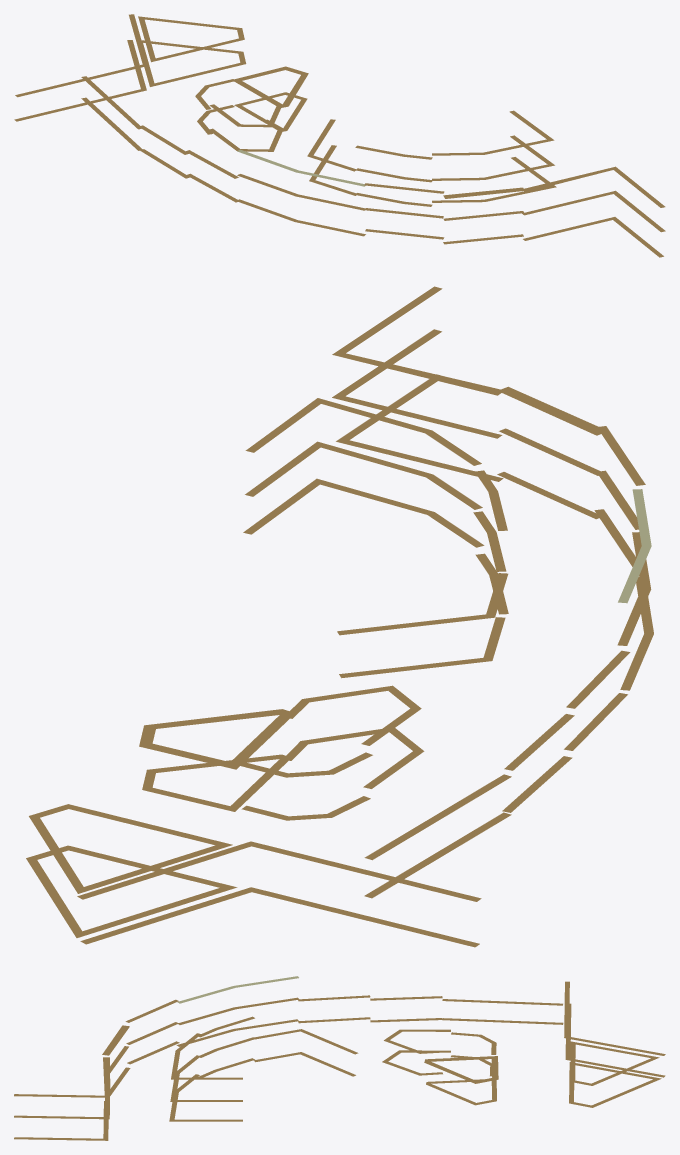
File: AdditionMobp_Prefab.fbx
The picture shows the model from 3 angles, top to bottom: view 1: azimuth 30°, elevation 25°; view 2: azimuth 150°, elevation 25°; view 3: azimuth 270°, elevation 25°; orthographic projection. The views are drawn at different scales.
Parts seen in each view (by area): view 1: AdditionMobp; view 2: AdditionMobp; view 3: AdditionMobp.
Boxes of the visible parts, x1,y1,x2,y2 form: AdditionMobp: (14,14,665,257); AdditionMobp: (26,286,653,947); AdditionMobp: (14,976,665,1140).
Bounding box in the file's own units: 212 × 40.31 × 396.
